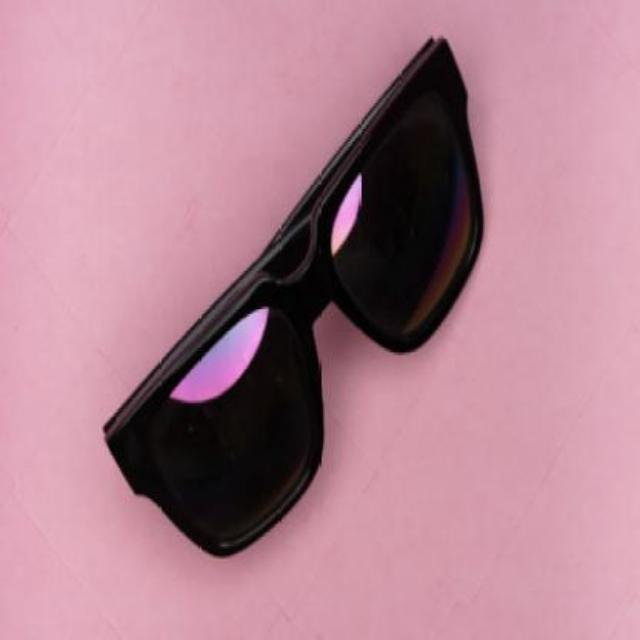glasses: (100, 31, 484, 558)
